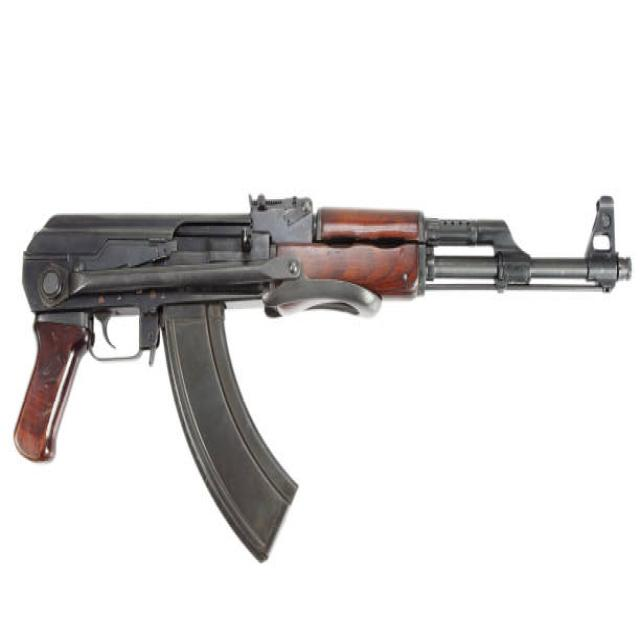rifle: (10, 179, 635, 570)
